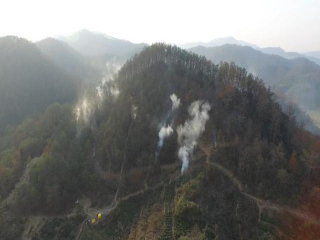smoke: (73, 64, 212, 176)
